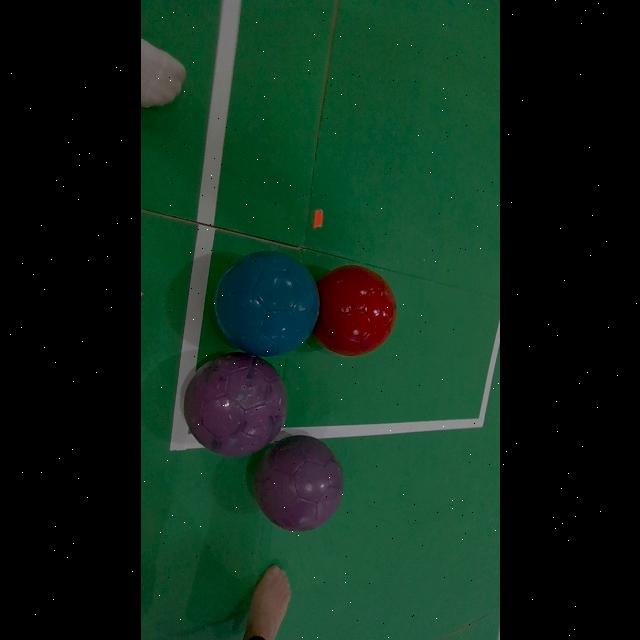B: (214, 251, 319, 357)
P: (184, 353, 286, 457), (253, 436, 342, 532)
R: (314, 265, 396, 356)
